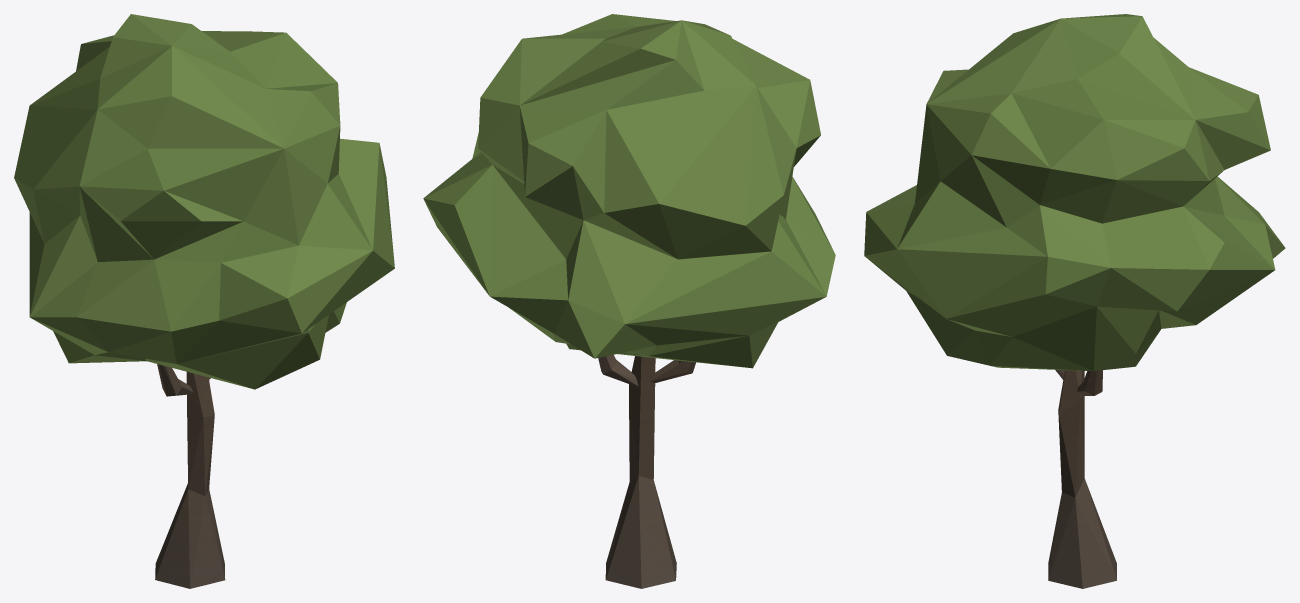
File: SM_Tree_4.FBX
3 renders of one model, left to right at view 1: azimuth 30°, elevation 25°; view 2: azimuth 150°, elevation 25°; view 3: azimuth 270°, elevation 25°, orthographic. The views are drawn at different scales.
Parts seen in each view (by area): view 1: SM_Tree_4; view 2: SM_Tree_4; view 3: SM_Tree_4.
Part boxes in pixels (x1,y1,x2,y2): SM_Tree_4: (14,14,394,588); SM_Tree_4: (423,14,835,588); SM_Tree_4: (864,14,1285,588).
Size of what is drawn, in the model's own units: 536 by 563 by 798.
